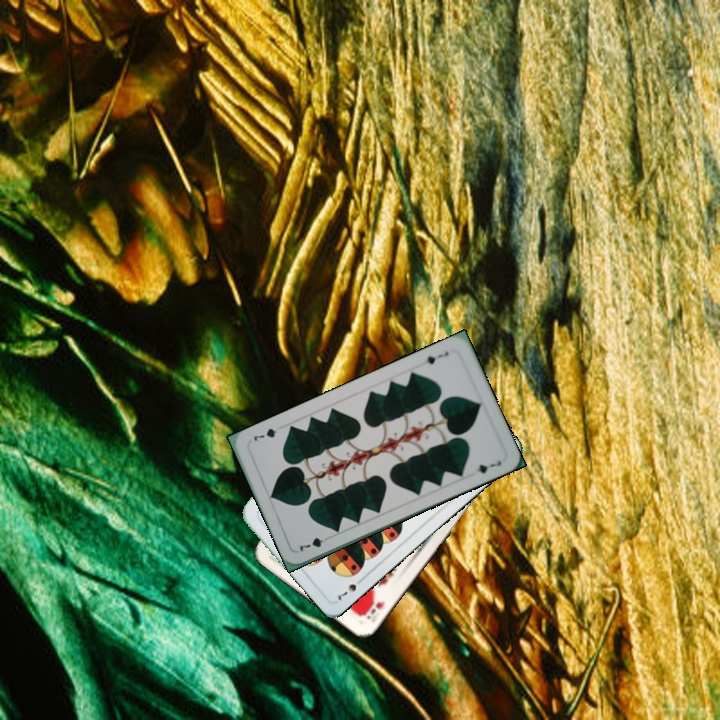G7: (295, 532, 333, 554), (422, 347, 451, 367)
HK: (357, 593, 388, 622)
S7: (334, 573, 367, 603)
